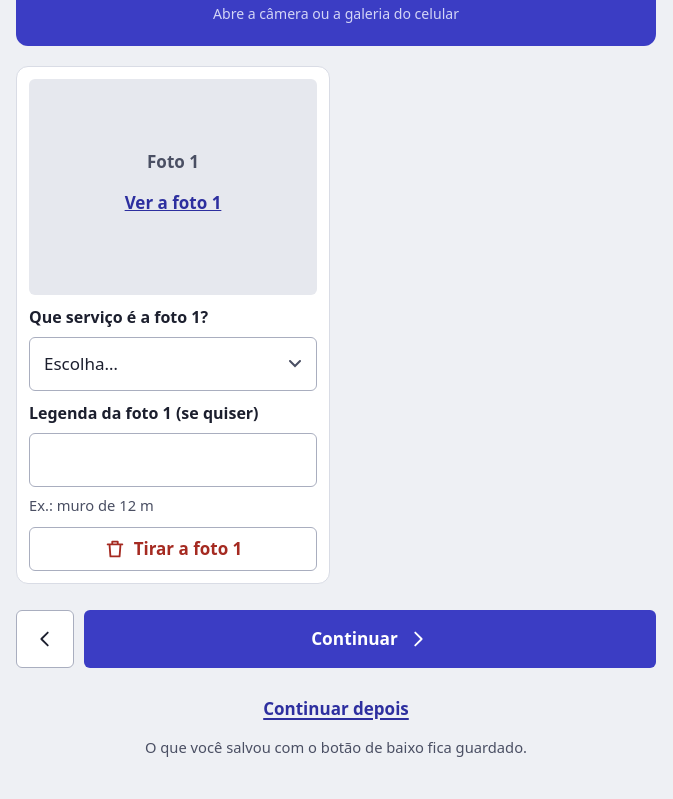
etapa 9: fotos › legenda com contato (422) diz qual foto
(page scrolled)
Type "liga 47 99999 0000" into the field labelled "Legenda da foto 1 (se quiser)" at (173, 460), box [29,433,317,487]
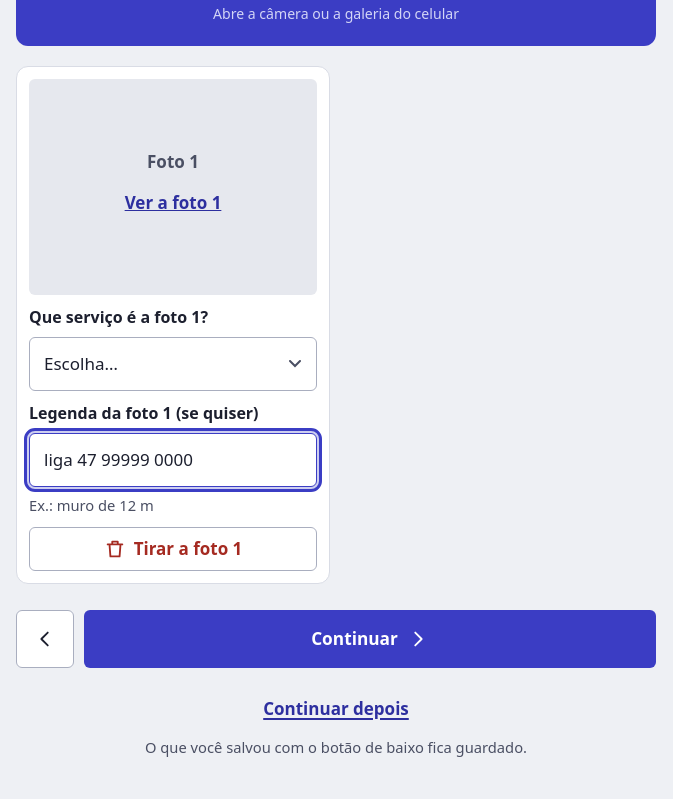
Click the button "Continuar" at (370, 639), box [84,610,656,668]
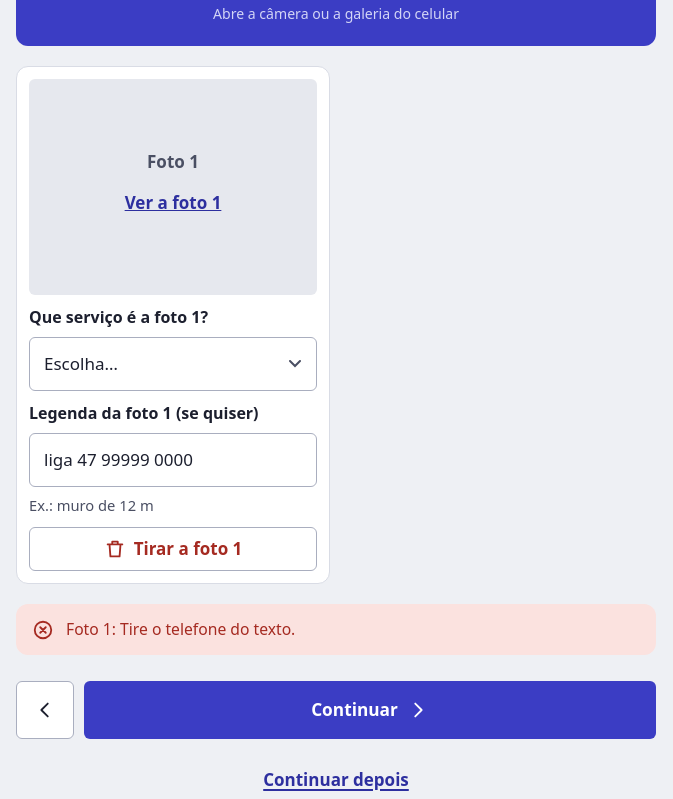
expect the message reads "Foto 1: Tire o telefone do texto.": met, box [66,618,295,640]
